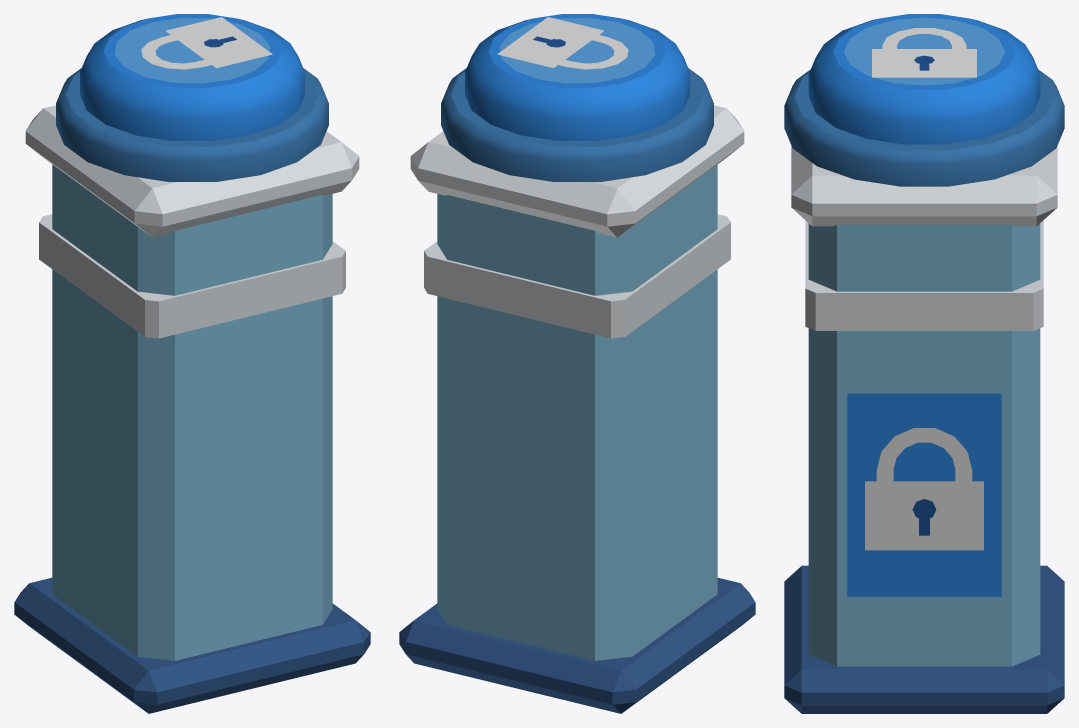
The model's file is ice-lockbtn.glb.
3 views of the same model, side by side, from view 1: azimuth 30°, elevation 25°; view 2: azimuth 150°, elevation 25°; view 3: azimuth 270°, elevation 25° (orthographic). The views are drawn at different scales.
Visible parts, largest first — view 1: ice-lockbtn; view 2: ice-lockbtn; view 3: ice-lockbtn.
Part boxes in pixels (<box>): ice-lockbtn: <box>14,14,370,713</box>; ice-lockbtn: <box>399,14,755,713</box>; ice-lockbtn: <box>784,14,1064,713</box>.
Size of the model in its own units: 0.4 by 0.964 by 0.4.
